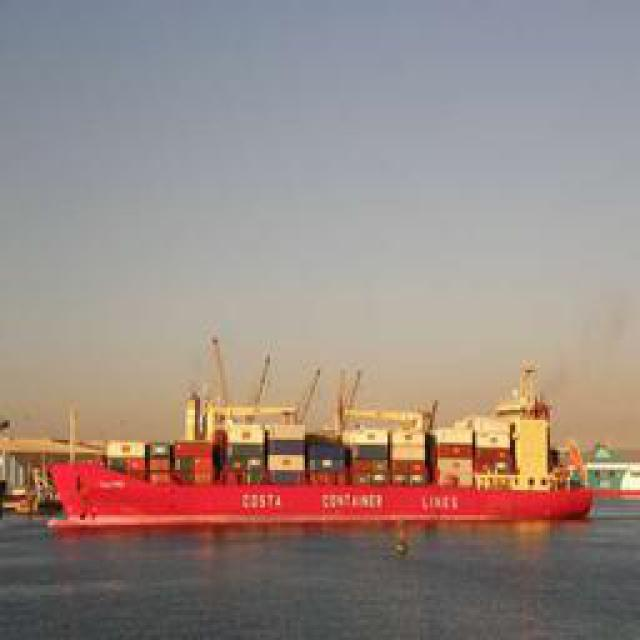Ship: (49, 369, 599, 534)
